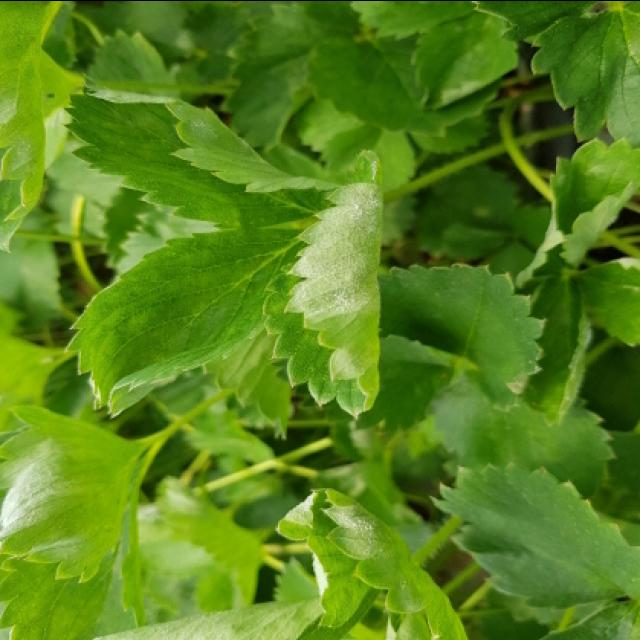Powdery Mildew Leaf: (63, 72, 348, 230), (262, 147, 383, 417), (275, 486, 469, 638), (513, 137, 638, 291)
